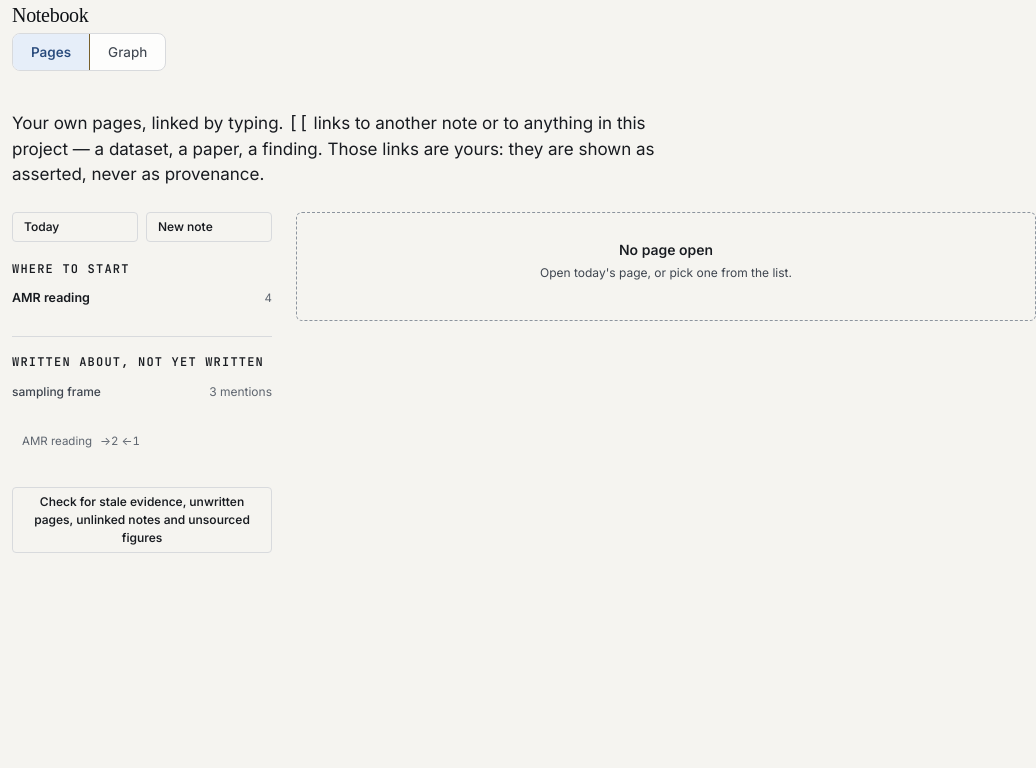
what the check found, in words › still shows a finding of a kind this build has never heard of
Click the button "stale evidence". click: coordinates (142, 520)
box: x1=12 y1=486 x2=272 y2=552
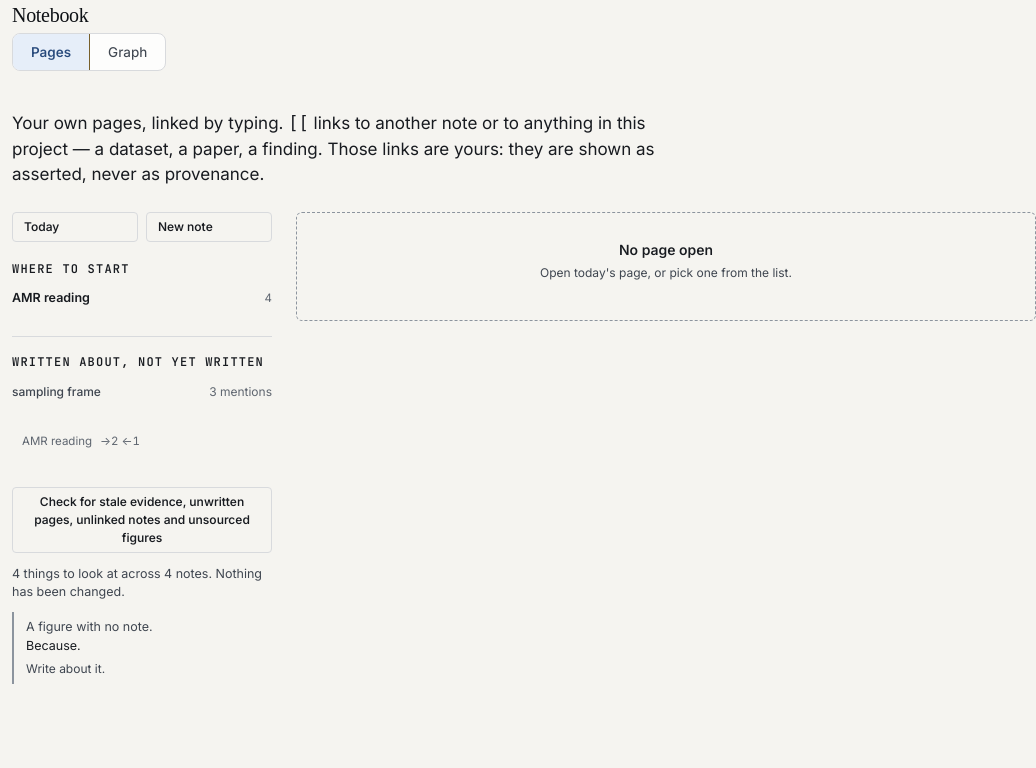
Check: the text "A figure with no note." is shown, box x1=26 y1=619 x2=152 y2=634
Check: the text "Write about it." is shown, box x1=26 y1=660 x2=105 y2=676
